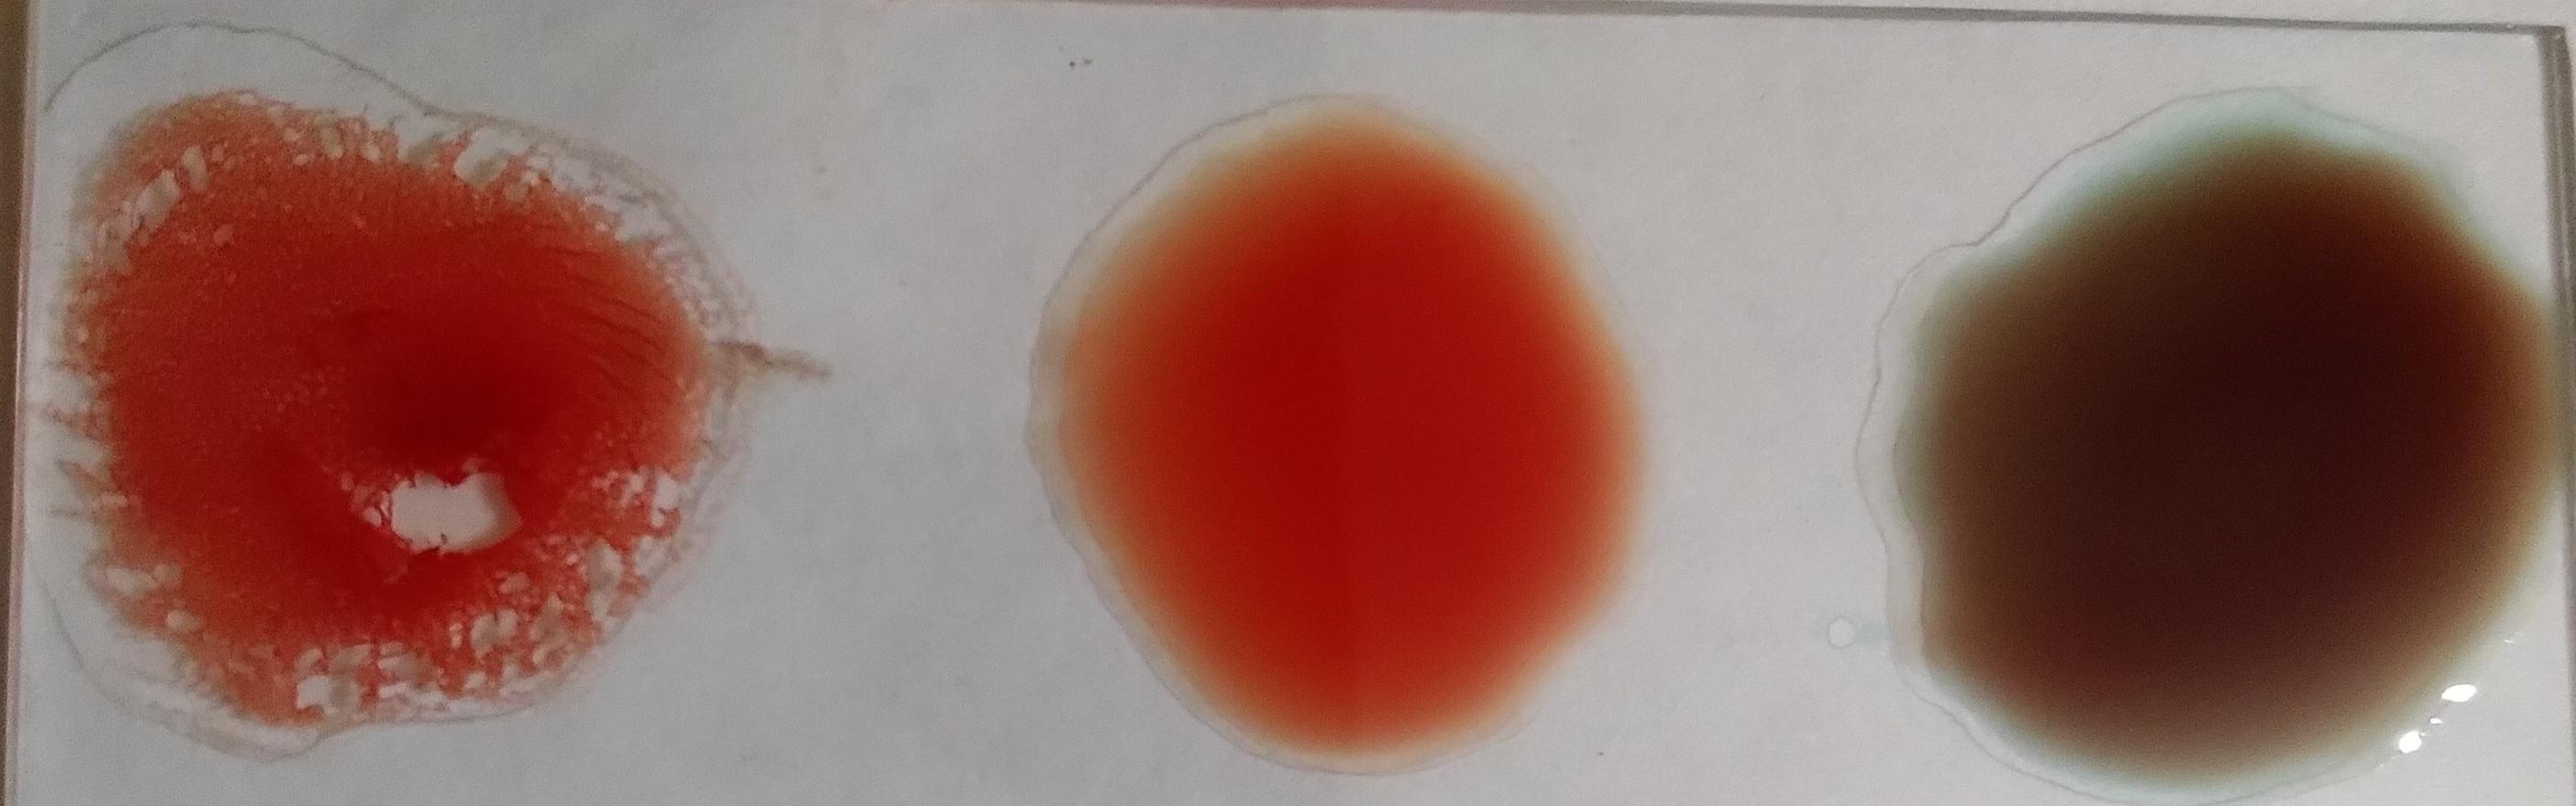D: (28, 57, 692, 747)
